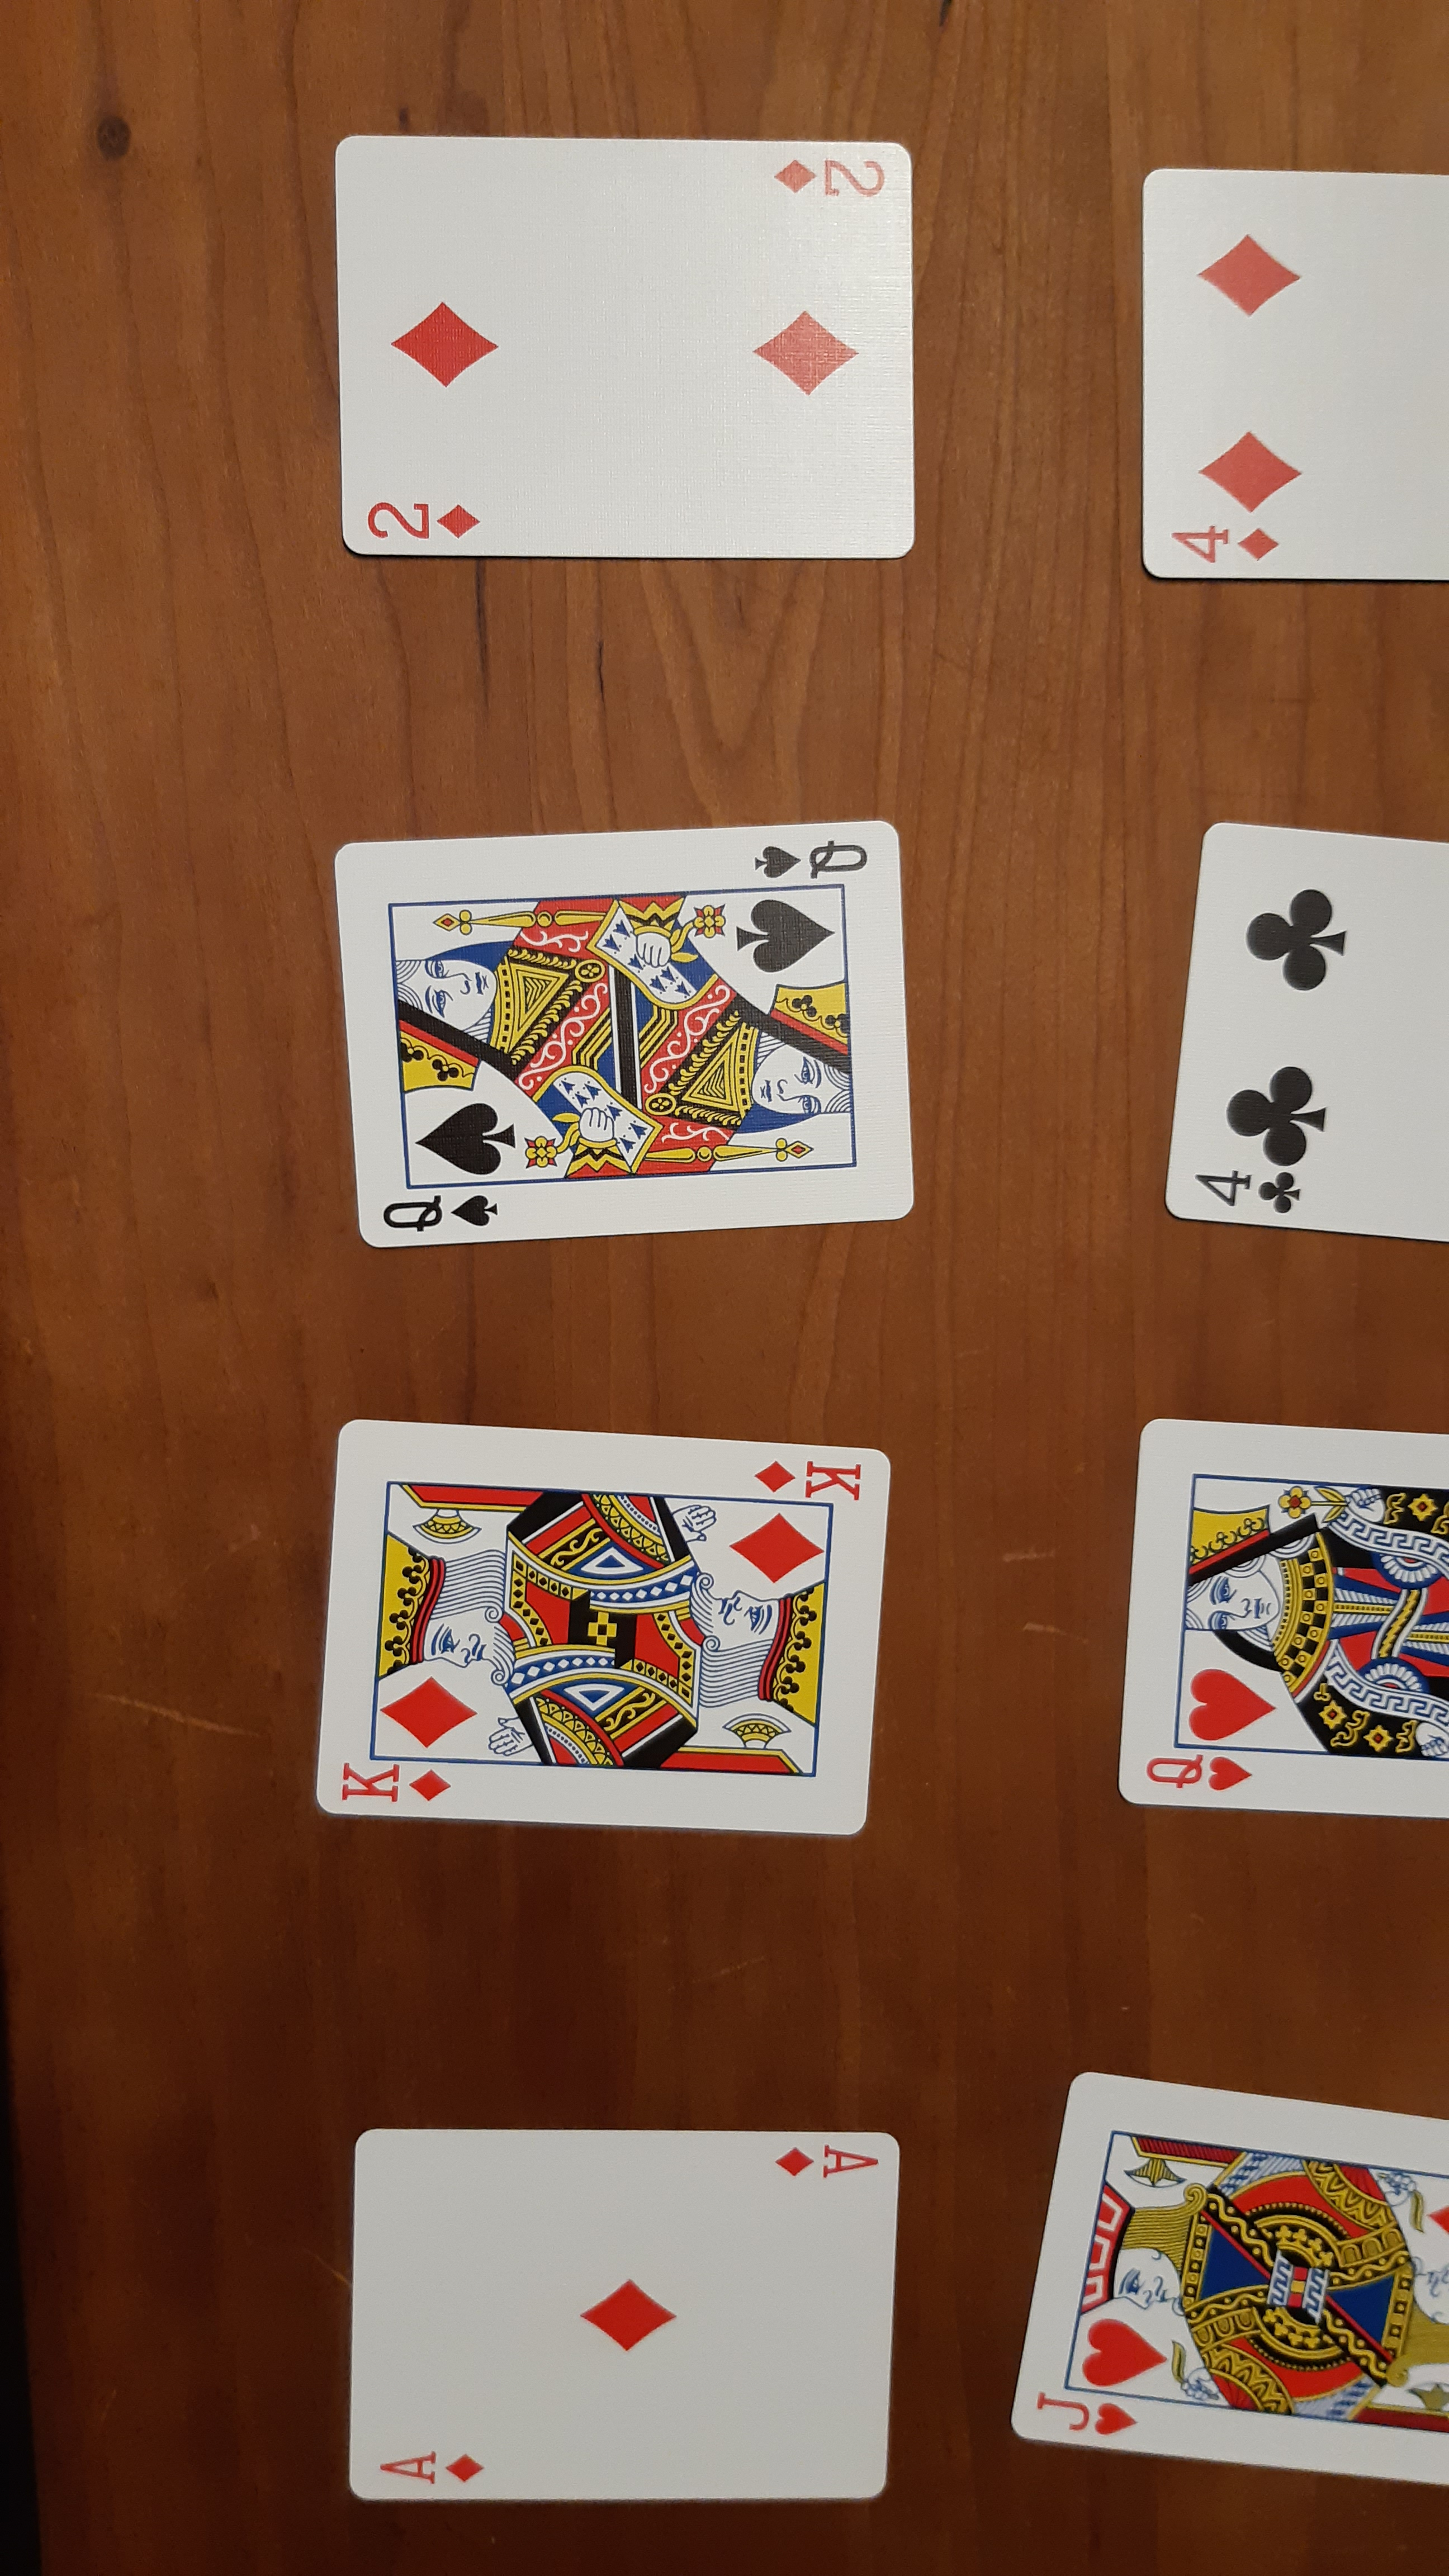Black_Club_4: (1177, 1155, 1311, 1219)
Black_Spade_Queen: (372, 1182, 501, 1238), (741, 828, 870, 885)
Red_Diamond_2: (768, 147, 892, 203), (356, 488, 481, 541)
Red_Diamond_4: (1161, 517, 1286, 566)
Red_Diamond_Ace: (361, 2436, 508, 2493), (764, 2130, 885, 2190)
Red_Diamond_King: (752, 1444, 878, 1514), (322, 1752, 458, 1810)
Red_Heart_Jack: (1017, 2387, 1146, 2447)
Red_Heart_Queen: (1138, 1748, 1258, 1798)
